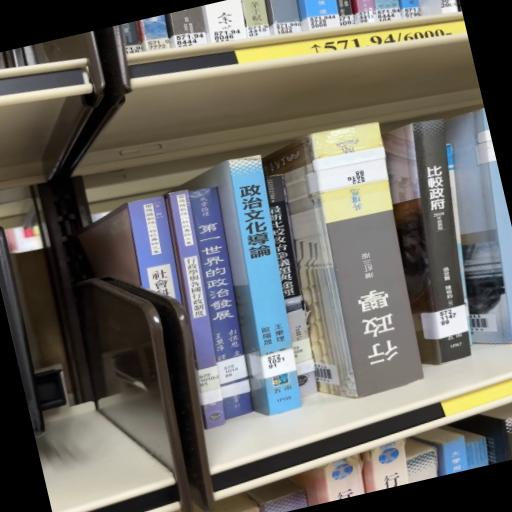reverse: (263, 123, 423, 398)
